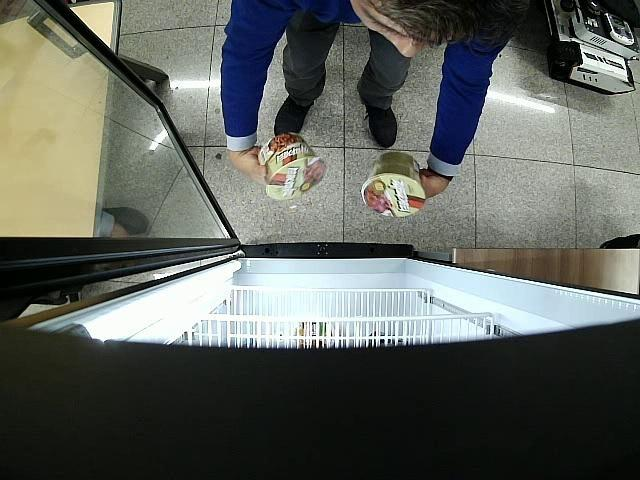03_chapagetti_L: (258, 132, 327, 200), (361, 152, 426, 218)
